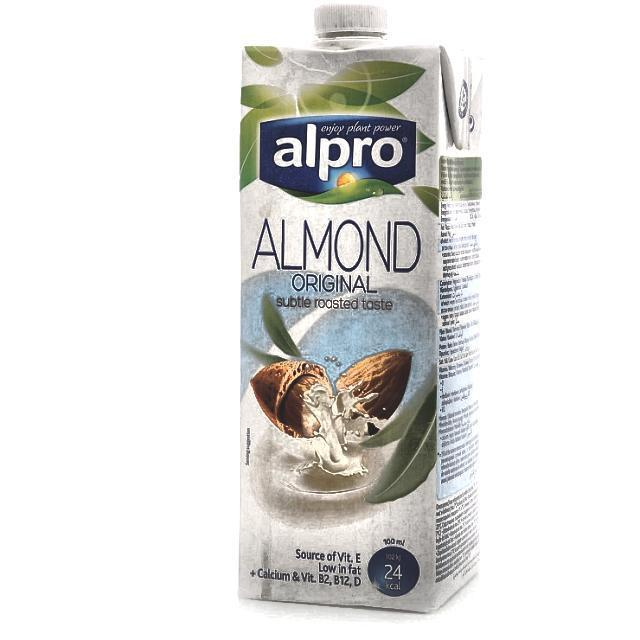cardboard: (236, 6, 484, 614)
